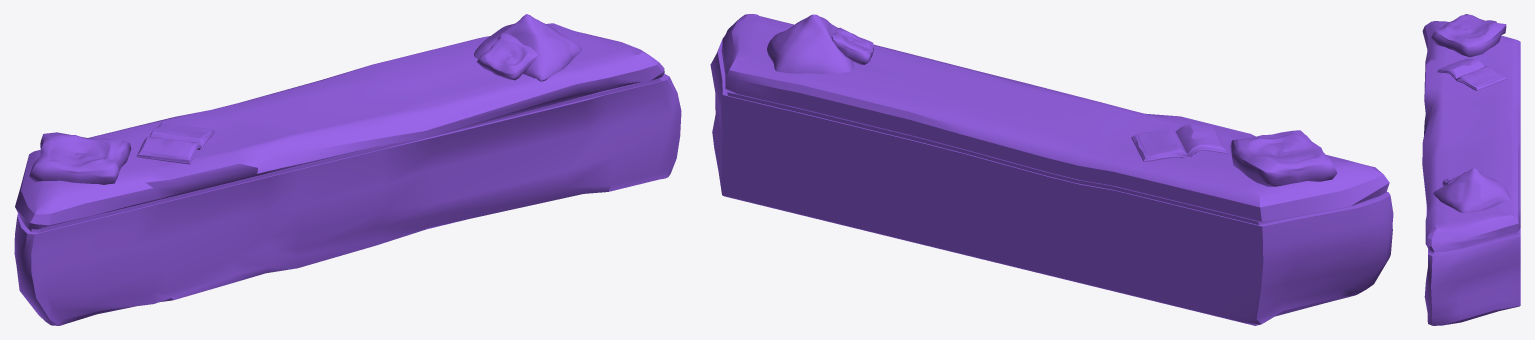
File: mini canap.fbx
3 views of the same model, side by side, from view 1: azimuth 30°, elevation 25°; view 2: azimuth 150°, elevation 25°; view 3: azimuth 270°, elevation 25° (orthographic). The views are drawn at different scales.
Visible parts, largest first — view 1: canap_sous_fenetre1, polySurface12, polySurface13, LivreOuvert, polySurface14; view 2: canap_sous_fenetre1, polySurface12, polySurface13, LivreOuvert, polySurface14; view 3: canap_sous_fenetre1, polySurface13, polySurface12, LivreOuvert, polySurface14.
Boxes of the visible parts, x1,y1,x2,y2 form: canap_sous_fenetre1: [14, 23, 681, 325]; polySurface12: [29, 132, 131, 184]; polySurface13: [474, 14, 581, 81]; LivreOuvert: [136, 122, 215, 164]; polySurface14: [476, 33, 539, 80]; canap_sous_fenetre1: [710, 14, 1393, 325]; polySurface12: [1230, 130, 1337, 186]; polySurface13: [767, 14, 853, 73]; LivreOuvert: [1131, 123, 1226, 161]; polySurface14: [831, 27, 873, 64]; canap_sous_fenetre1: [1422, 21, 1520, 325]; polySurface13: [1433, 168, 1510, 213]; polySurface12: [1431, 14, 1506, 57]; LivreOuvert: [1437, 58, 1506, 90]; polySurface14: [1442, 172, 1465, 186].
Size of the model in its own units: 34.61 by 8.41 by 6.28.
